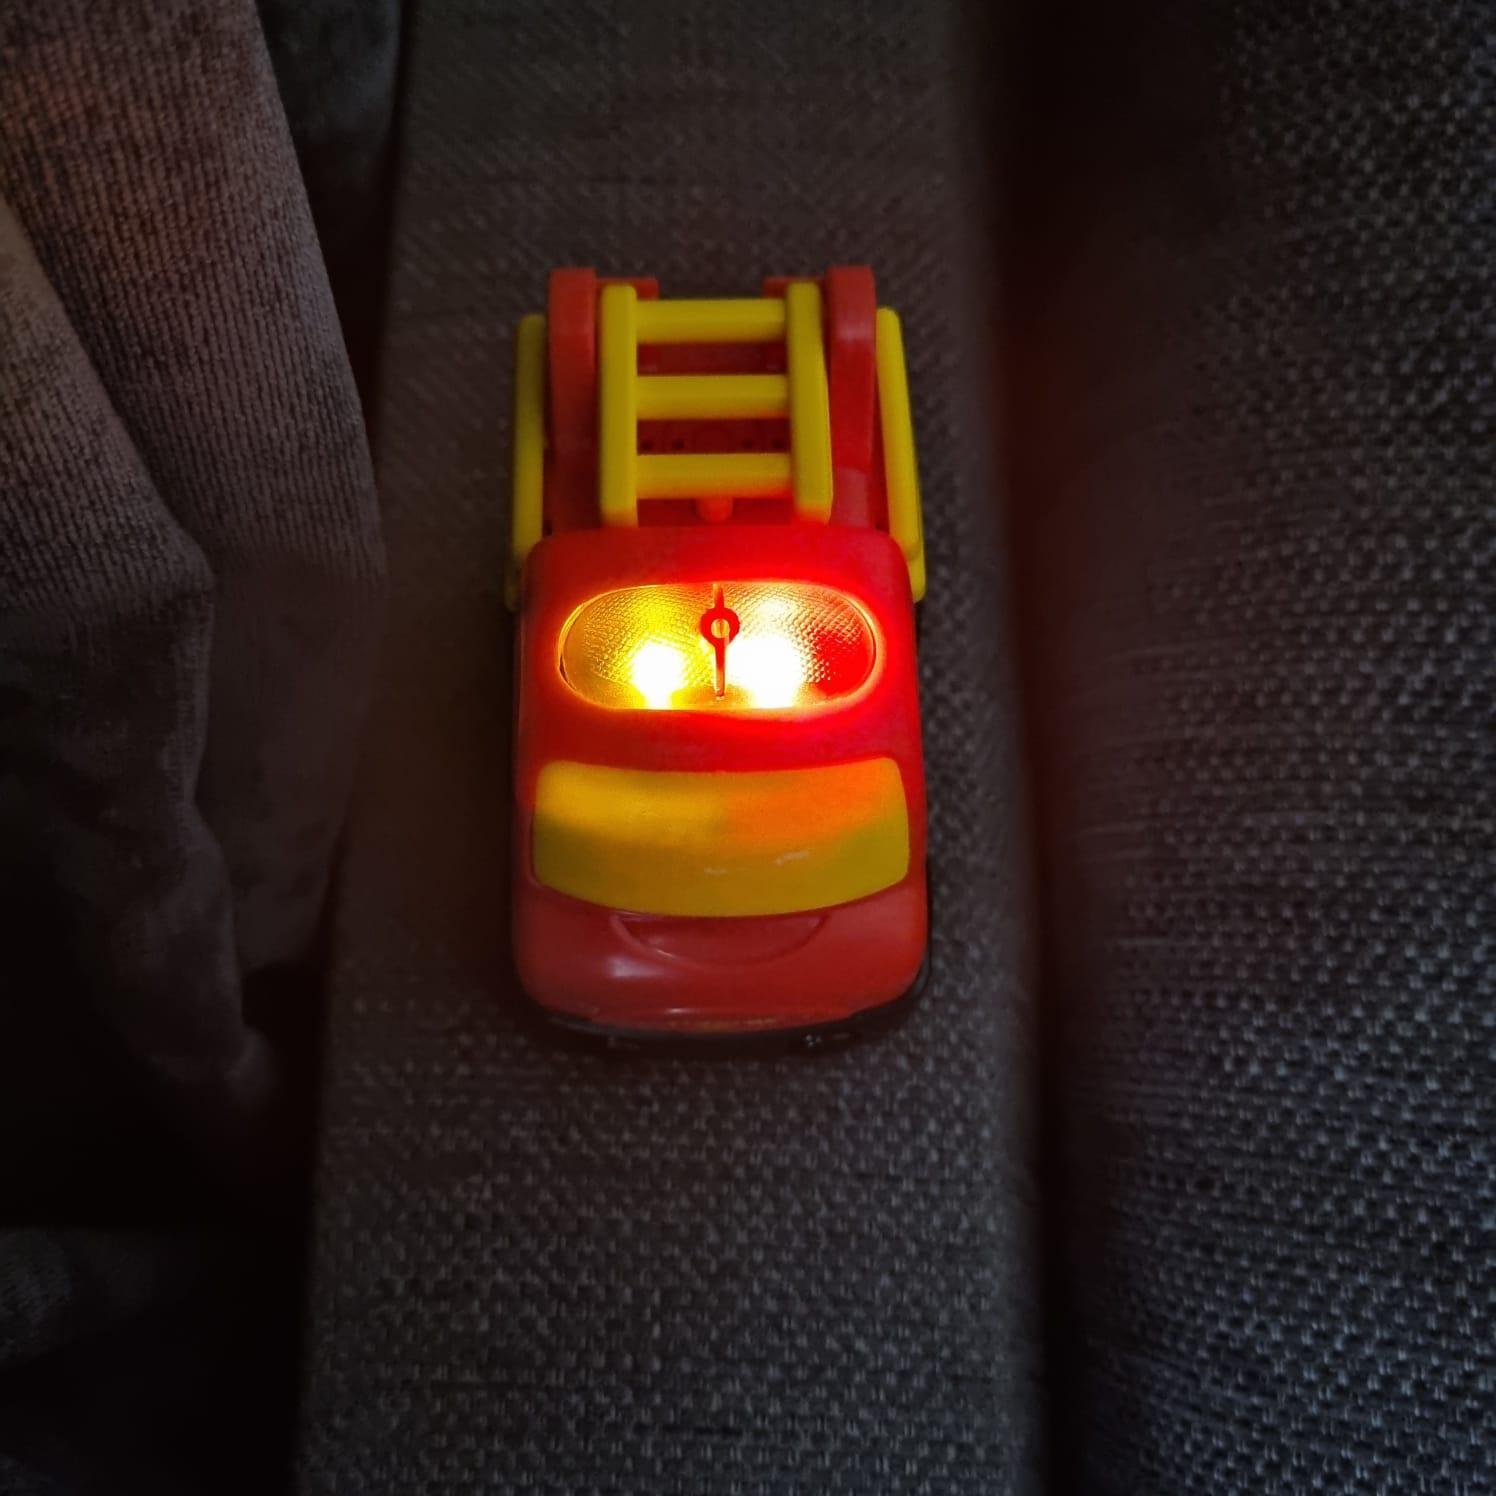firetruck_on: (497, 253, 944, 1056)
